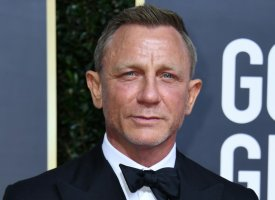without_mask: (102, 29, 186, 142)
